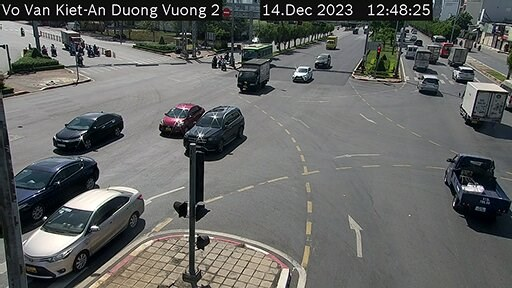bus: (243, 40, 275, 66)
car: (40, 186, 140, 268), (12, 153, 104, 210), (59, 109, 134, 151), (193, 108, 238, 156), (166, 99, 201, 135), (419, 69, 442, 99), (294, 63, 314, 87), (447, 69, 475, 81), (317, 52, 329, 74)
truck: (445, 150, 506, 219), (458, 82, 509, 126), (236, 60, 270, 95), (53, 30, 89, 49), (410, 49, 430, 74), (450, 46, 468, 68), (428, 42, 441, 68), (328, 34, 343, 52)
